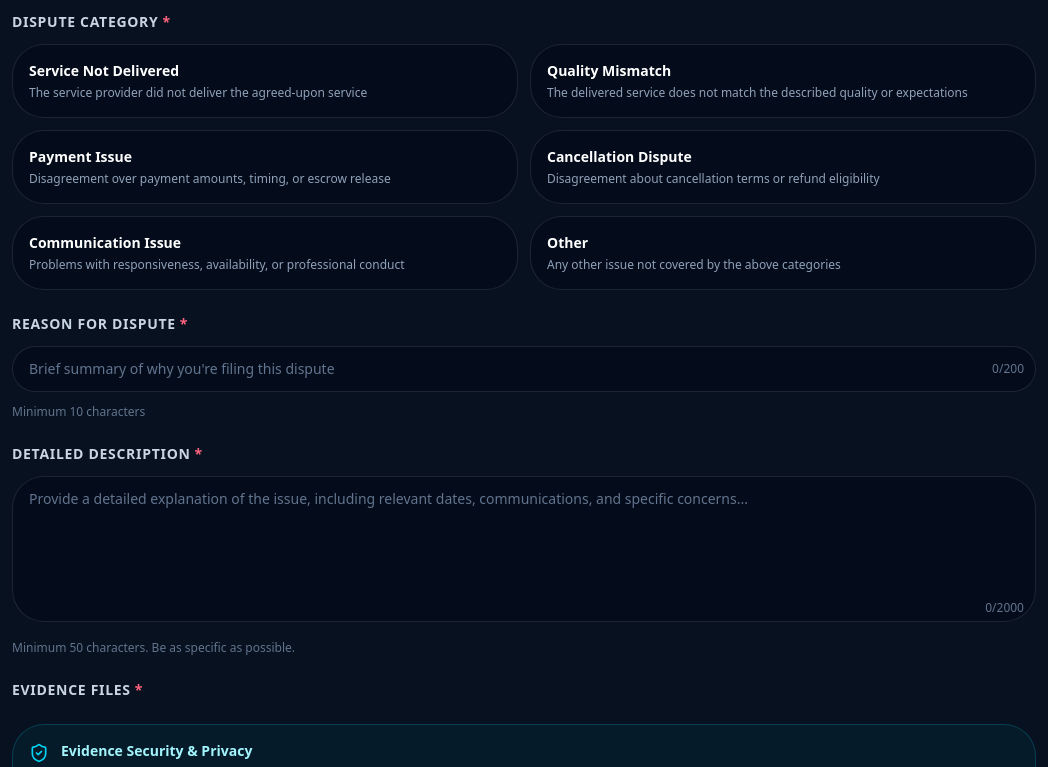
DisputeFilingForm › validator failure branches › reason: input below the 10-character minimum shows the min error
Type "012345678" into the field labelled "Reason for Dispute*". click: (524, 369)
box: [12, 346, 1036, 392]
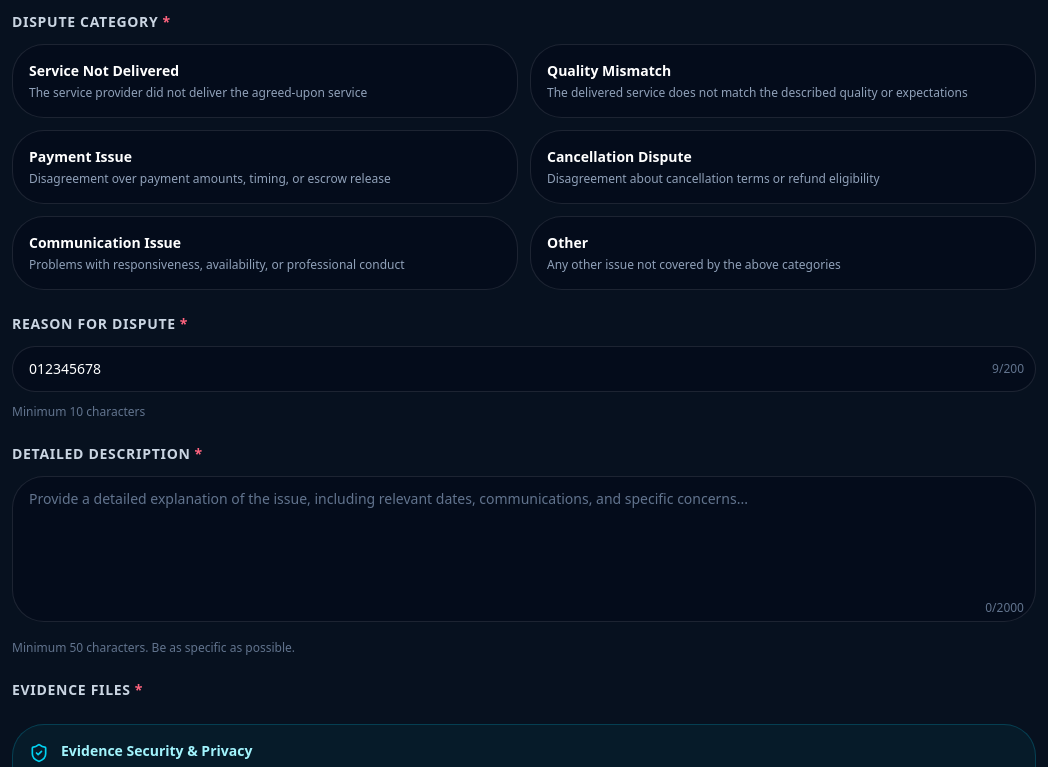
Leave the field labelled "Reason for Dispute*", box [12, 346, 1036, 392]
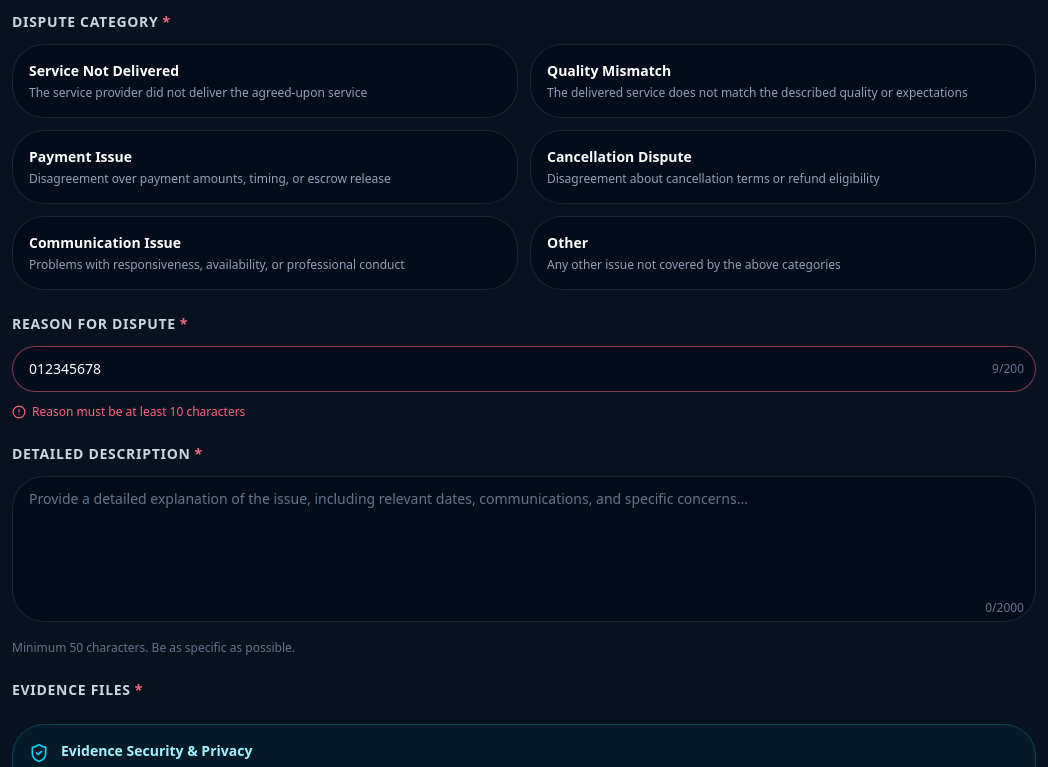
Expected: the text "9/200" is shown, [992, 361, 1024, 377]
Expected: the text "Reason must be at least 10 characters" is shown, [12, 403, 245, 420]
